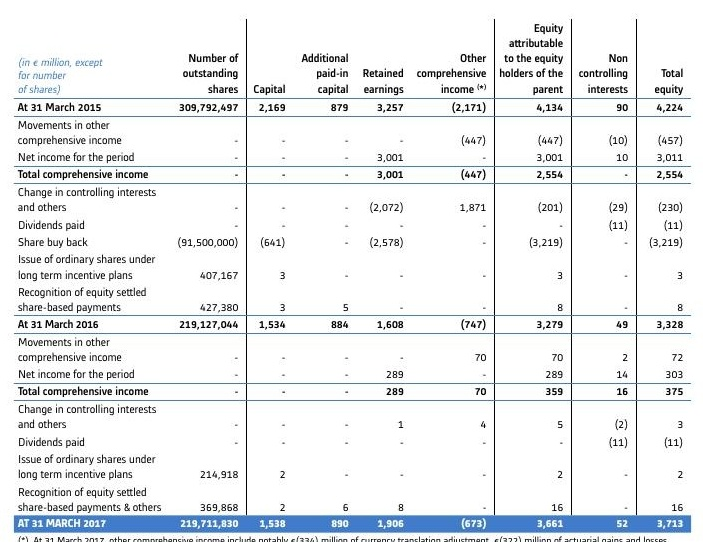table: (0, 0, 703, 542)
